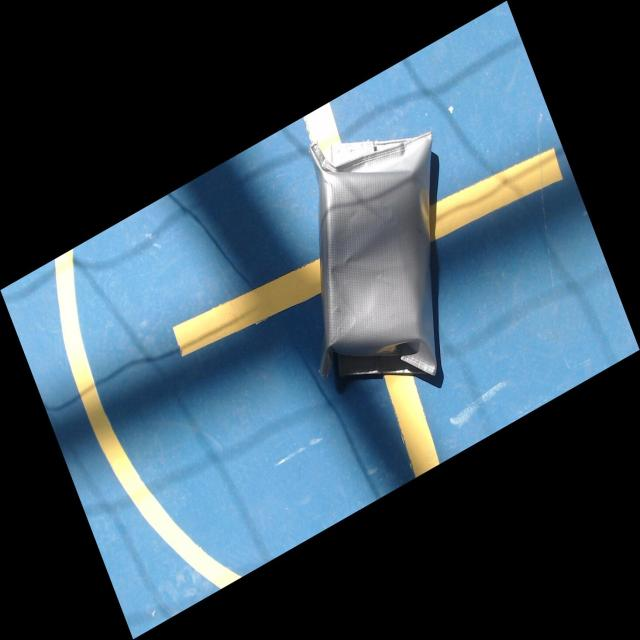vertical: (311, 132, 437, 375)
